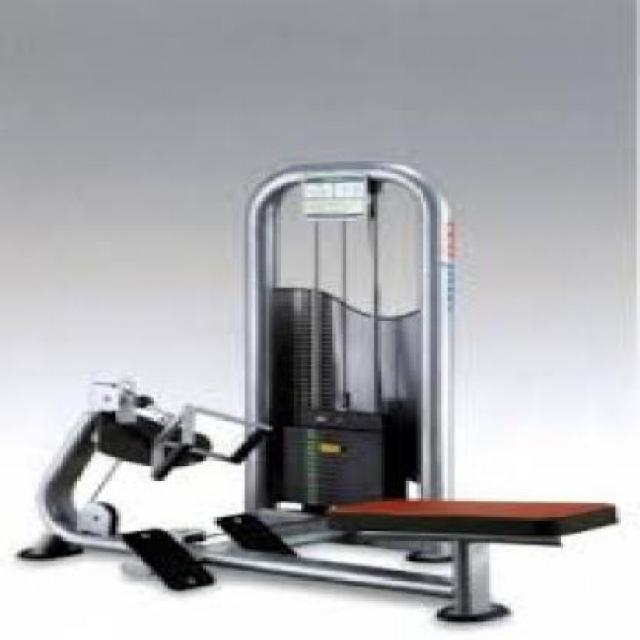Seated Cable Rows: (16, 154, 622, 631)
